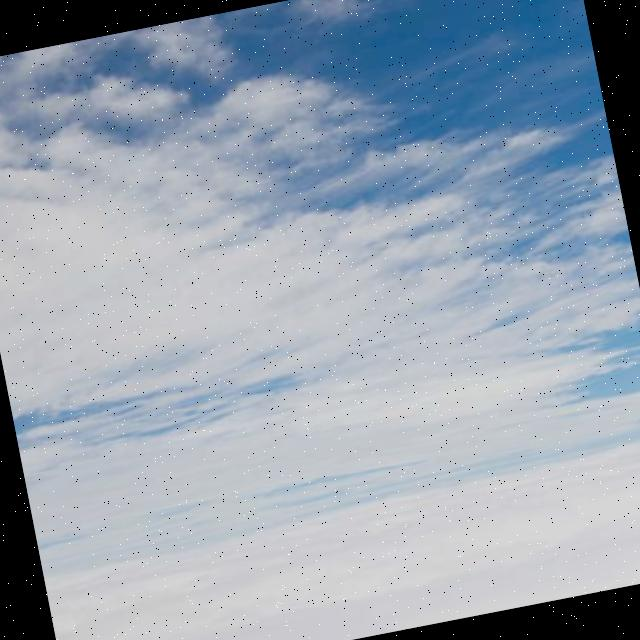Ac: (1, 1, 640, 496)
